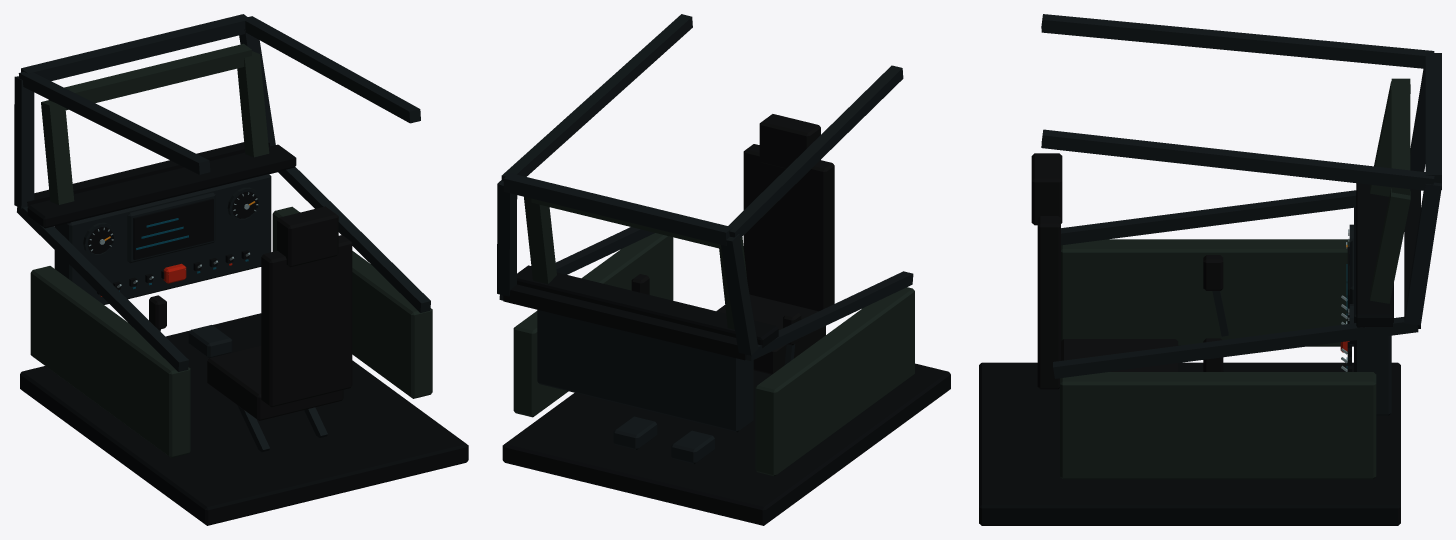
The model's file is Cockpit_DropPod.obj.
The picture shows the model from 3 angles, left to right: view 1: azimuth 30°, elevation 25°; view 2: azimuth 150°, elevation 25°; view 3: azimuth 270°, elevation 25°; orthographic projection. The views are drawn at different scales.
Visible parts, largest first — view 1: Floor, Side_console, Seat_back, Armored_command_console, Side_console.001, Glare_shield, Windscreen_brow, Armored_header, Seat_cushion, Canopy_roof_rail, Canopy_roof_rail.001, Cabin_lower_rail (+12 smaller); view 2: Floor, Side_console, Armored_command_console, Seat_back, Side_console.001, Glare_shield, Windscreen_sill, Windscreen_brow, Canopy_roof_rail.001, Canopy_roof_rail, Cabin_lower_rail, Canopy_A_pillar (+8 smaller); view 3: Side_console.001, Floor, Side_console, Canopy_roof_rail.001, Canopy_roof_rail, Cabin_lower_rail.001, Cabin_lower_rail, Seat_back, Glare_shield, Canopy_A_pillar.001, Armored_window_inset.001, Armored_command_console (+8 smaller).
Boxes of the visible parts, x1,y1,x2,y2 form: Floor: (20, 313, 468, 525); Side_console: (30, 266, 190, 457); Seat_back: (261, 235, 352, 407); Armored_command_console: (54, 174, 271, 304); Side_console.001: (272, 206, 432, 398); Glare_shield: (27, 144, 296, 228); Windscreen_brow: (21, 14, 250, 81); Armored_header: (49, 43, 251, 110); Seat_cushion: (207, 345, 343, 420); Canopy_roof_rail: (18, 72, 210, 174); Canopy_roof_rail.001: (245, 16, 420, 123); Cabin_lower_rail: (17, 206, 188, 371); Floor: (502, 363, 950, 525); Side_console: (755, 287, 914, 476); Armored_command_console: (537, 310, 753, 432); Seat_back: (743, 144, 834, 311); Side_console.001: (513, 233, 673, 417); Glare_shield: (517, 265, 778, 347); Windscreen_sill: (503, 284, 746, 360); Windscreen_brow: (503, 173, 732, 245); Canopy_roof_rail.001: (501, 14, 692, 180); Canopy_roof_rail: (728, 65, 903, 237); Cabin_lower_rail: (746, 271, 913, 360); Canopy_A_pillar: (721, 234, 758, 355); Side_console.001: (1060, 372, 1376, 479); Floor: (979, 362, 1400, 525); Side_console: (1061, 239, 1353, 346); Canopy_roof_rail.001: (1041, 129, 1434, 190); Canopy_roof_rail: (1041, 14, 1434, 68); Cabin_lower_rail.001: (1053, 317, 1418, 378); Cabin_lower_rail: (1061, 190, 1356, 245); Seat_back: (1037, 216, 1060, 389); Glare_shield: (1356, 183, 1393, 327); Canopy_A_pillar.001: (1404, 182, 1441, 325); Armored_window_inset.001: (1370, 188, 1410, 303); Armored_command_console: (1354, 206, 1391, 415).
Size of the model in its own units: 1.46 by 1.79 by 1.98.
